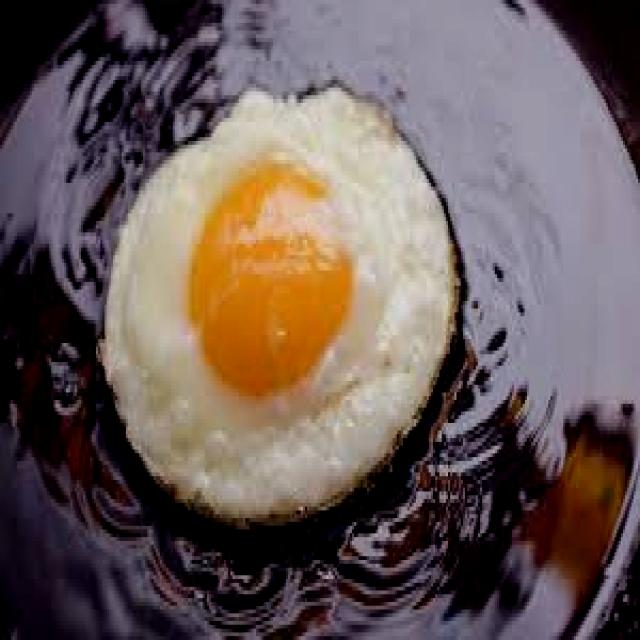telur ceplok: (98, 84, 463, 533)
